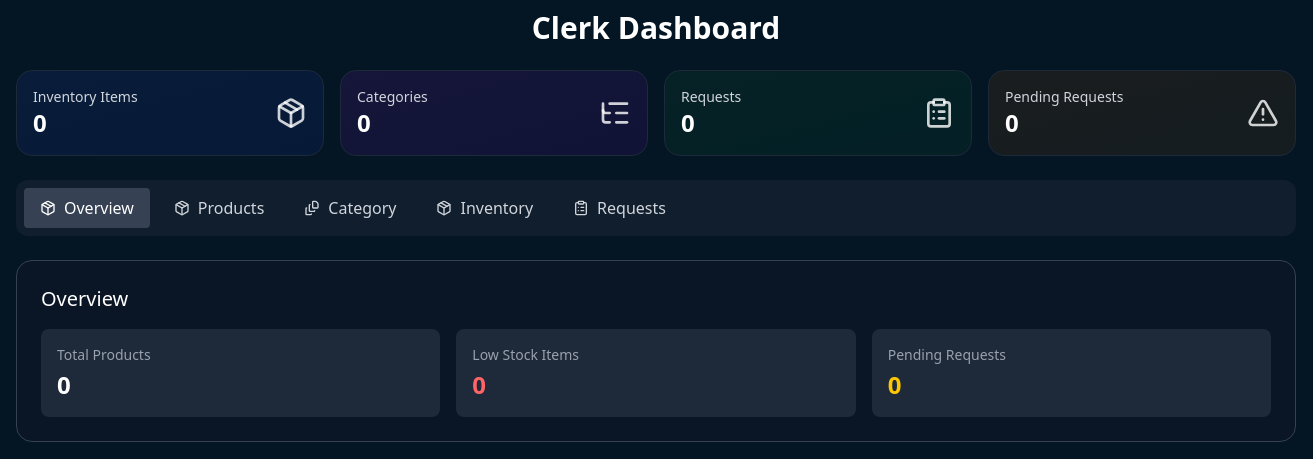
ClerkDashboard › switches to Products tab
This screenshot has width=1313, height=459.
Click the button "Products".
click(219, 208)  # box x1=158 y1=188 x2=280 y2=228
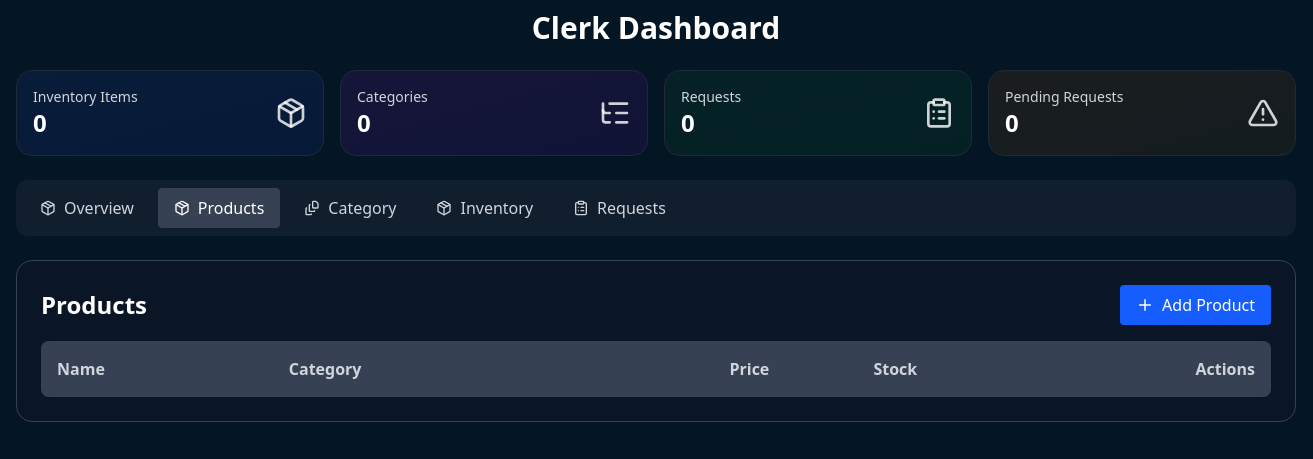
Check: the column heading "Price" is shown, box x1=577 y1=341 x2=785 y2=397
